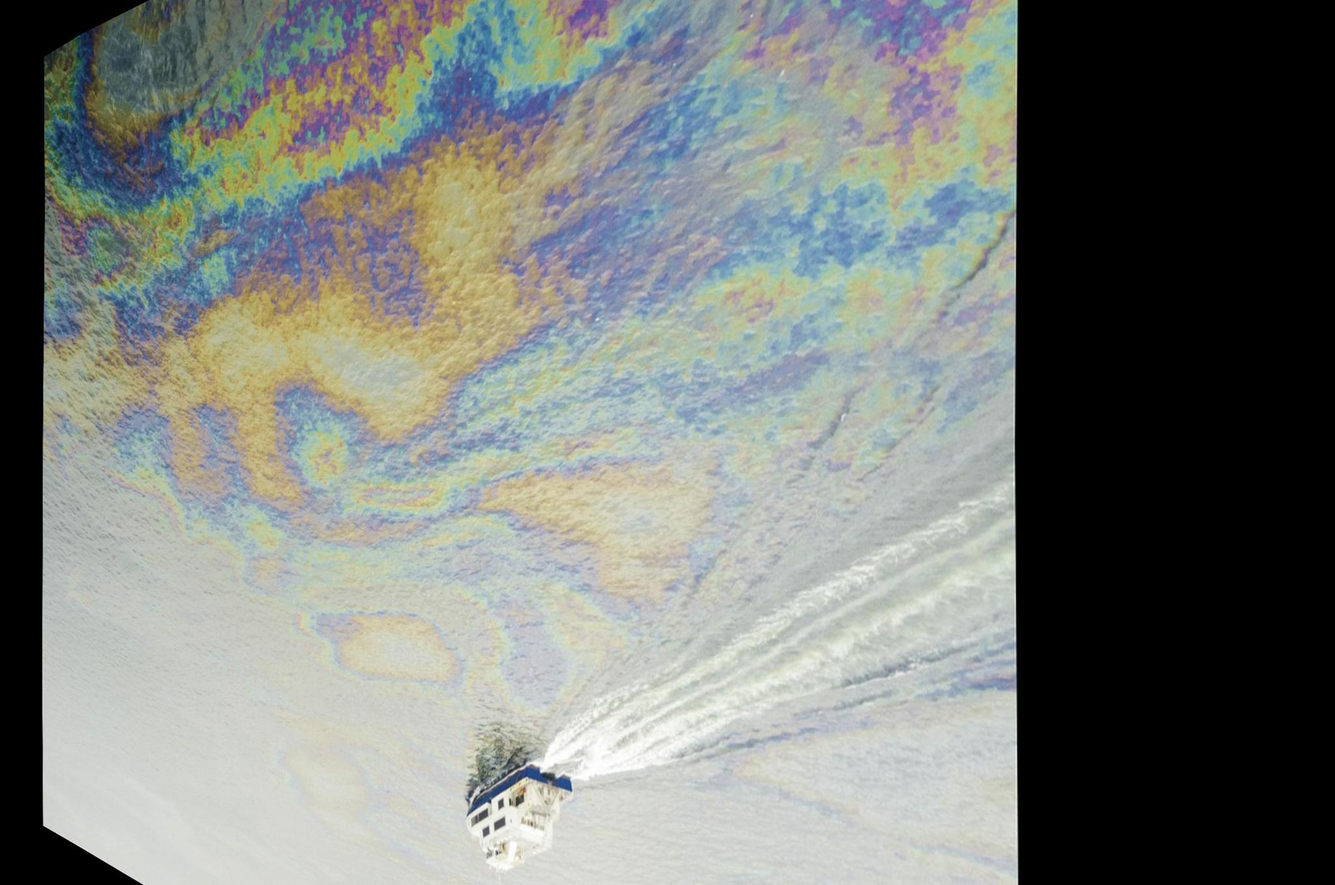Oil Pollution: (88, 66, 962, 550)
